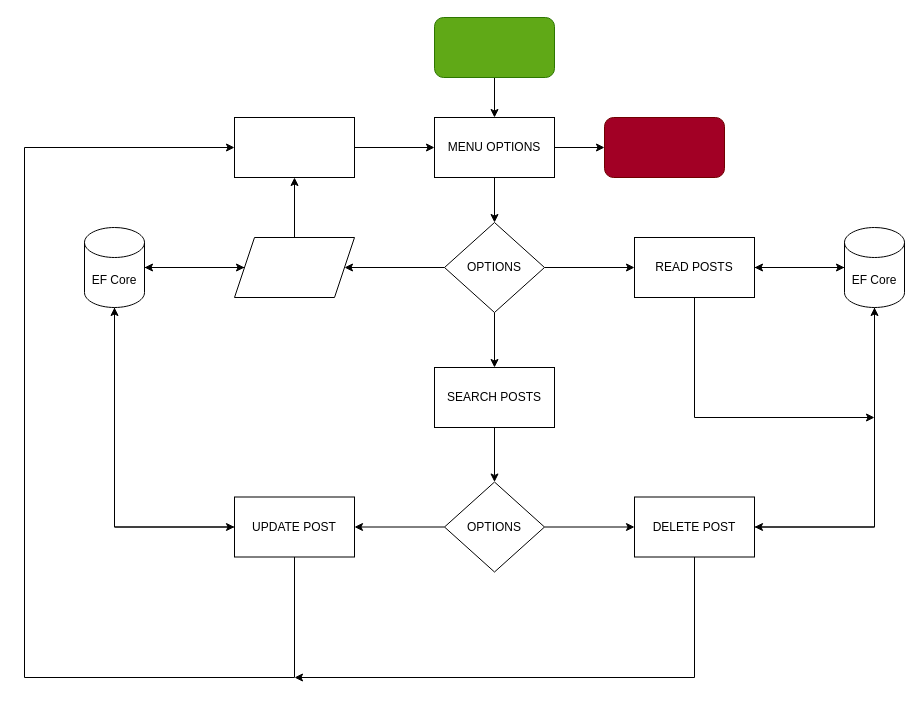
Image size: 922x703. Some labels were removed from this diagram. Each missing label, with the centre of its shape:
"CREATE POST" goes at [294,267].
"START" goes at [494,47].
"STOP" goes at [664,147].
"VALIDATION OR ERROR" goes at [294,147].
